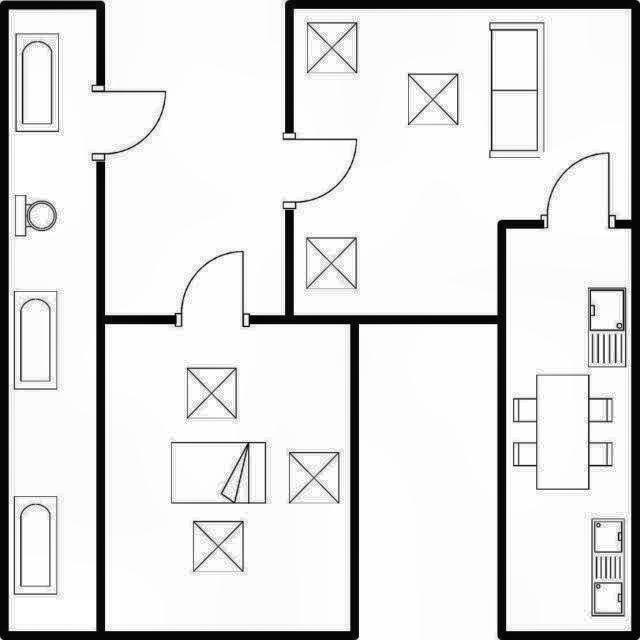room: (294, 9, 632, 315), (105, 326, 351, 631), (9, 10, 95, 631), (506, 230, 631, 631)
